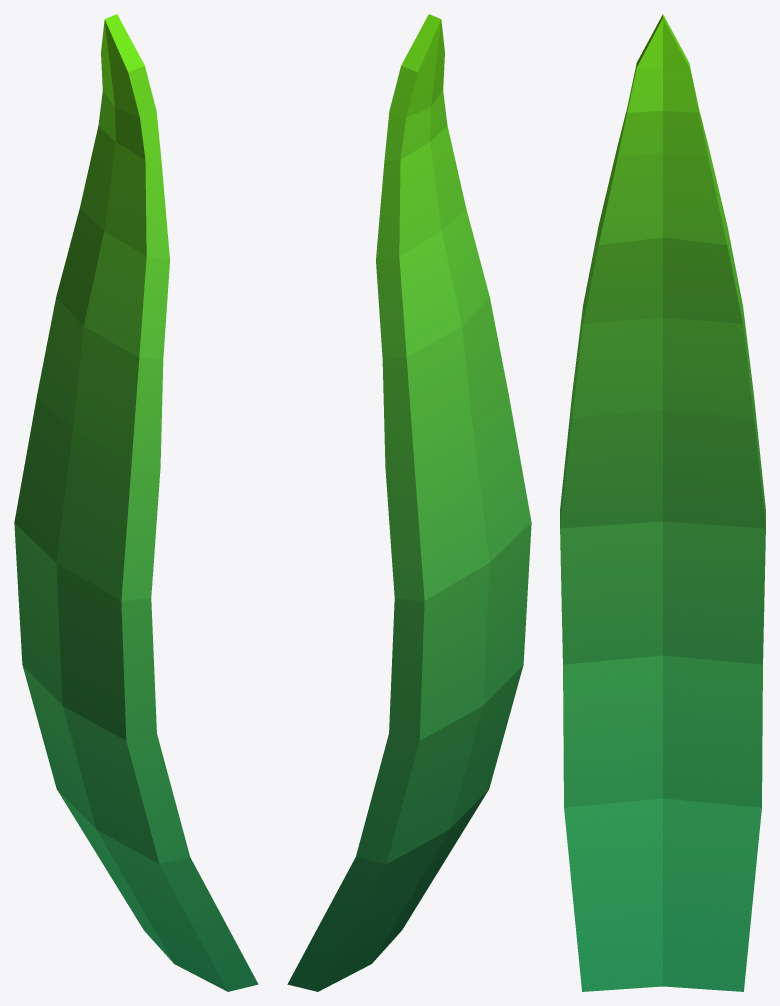
The model's file is objGrass2.fbx.
3 renders of one model, left to right at view 1: azimuth 30°, elevation 25°; view 2: azimuth 150°, elevation 25°; view 3: azimuth 270°, elevation 25°, orthographic. The views are drawn at different scales.
Parts seen in each view (by area): view 1: pCube9; view 2: pCube9; view 3: pCube9.
Boxes of the visible parts, <box> form: pCube9: <box>14,14,258,991</box>; pCube9: <box>287,14,531,991</box>; pCube9: <box>560,14,765,991</box>.
Size of the model in its own units: 161 by 924 by 186.
